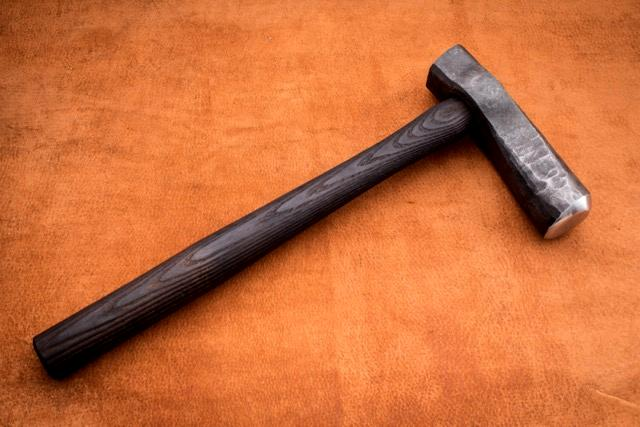hammer: (25, 38, 598, 386)
